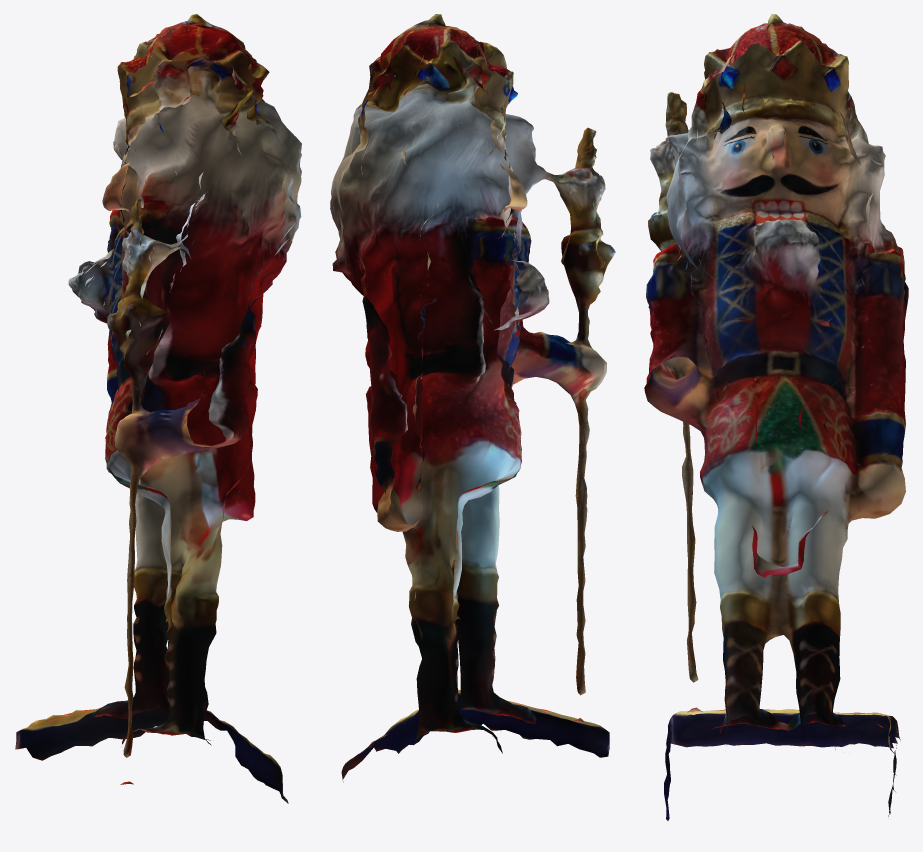
File: nutcracker.glb
3 renders of one model, left to right at view 1: azimuth 30°, elevation 25°; view 2: azimuth 150°, elevation 25°; view 3: azimuth 270°, elevation 25°, orthographic. The views are drawn at different scales.
Parts seen in each view (by area): view 1: Mesh_0; view 2: Mesh_0; view 3: Mesh_0.
Boxes of the visible parts, x1=… form: Mesh_0: x1=15, y1=14, x2=301, y2=803; Mesh_0: x1=330, y1=14, x2=615, y2=782; Mesh_0: x1=644, y1=14, x2=908, y2=820.
Bounding box in the file's own units: 0.2136 × 0.6848 × 0.2047.
Materials: 1 (1 with a texture image).
